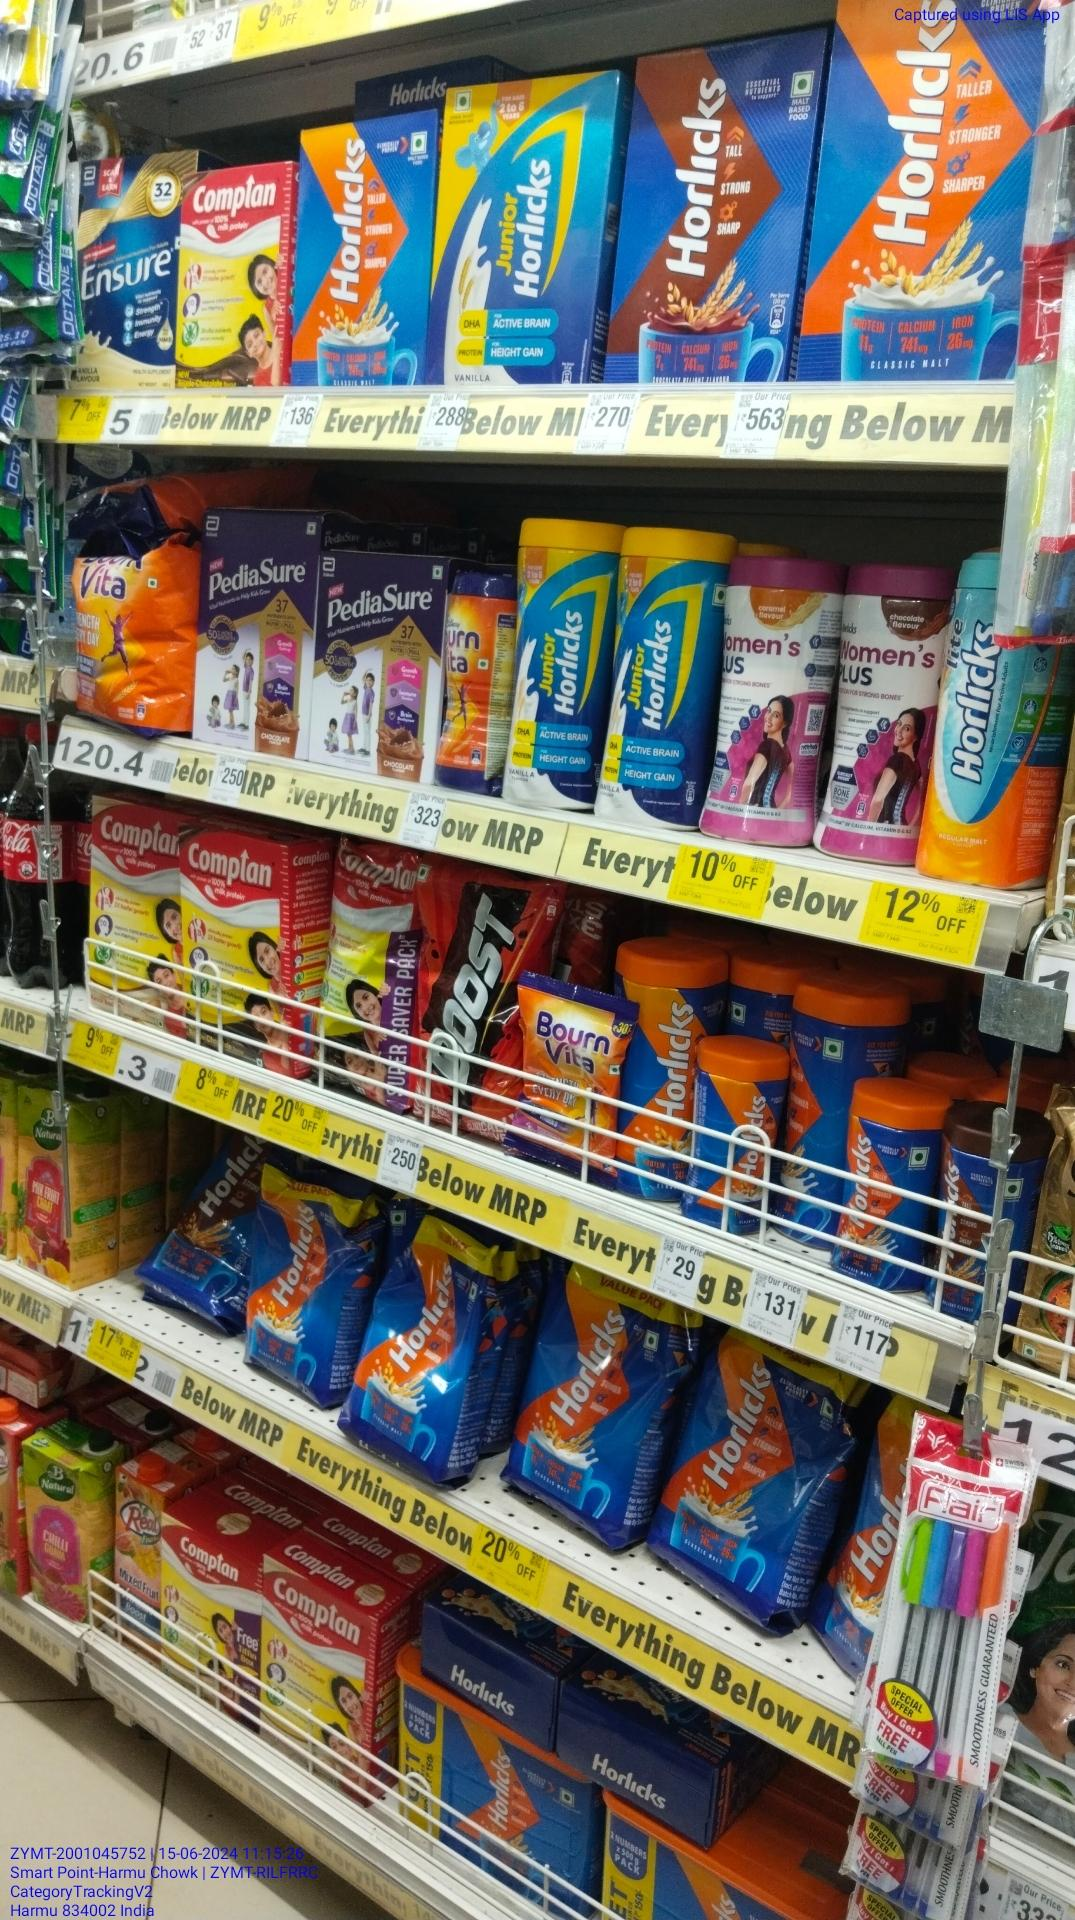BOURN_VITA_75_G_POUCH: (517, 980, 621, 1174)
COMPLAN_CHOCOLATE_200_GMS_PACK: (179, 171, 278, 384)
COMPLAN_CHOCOLATE_500_GMS_PACK: (186, 825, 292, 1071)
COMPLAN_KESAR_BADAM_500_GMS_PACK: (265, 1560, 368, 1783), (91, 799, 181, 1033), (158, 1542, 259, 1722)
COMPLAN_RC_POUCH_700_GMS_12: (318, 836, 413, 1116)
ENSURE_VANILLA_400_G_PACK: (75, 154, 175, 382)
HORLICKS_LITE_REGULAR_MALT_500_GM_JAR: (931, 622, 1026, 884)
HORLICK_CHOCOLATE_500_G_PACK: (619, 57, 787, 380)
HORLICK_CLASSIC_MALT_200_G_JAR: (831, 1092, 925, 1276), (691, 1040, 776, 1238)
HORLICK_CLASSIC_MALT_500_G_PACK: (294, 123, 426, 386)
PEDIASURE_CHOCOLATE_500_G_PACK: (197, 508, 309, 757)
